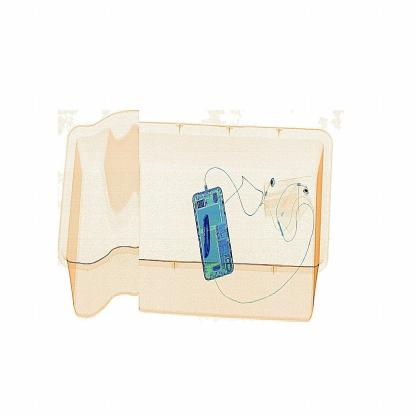knife: (197, 213, 218, 265)
